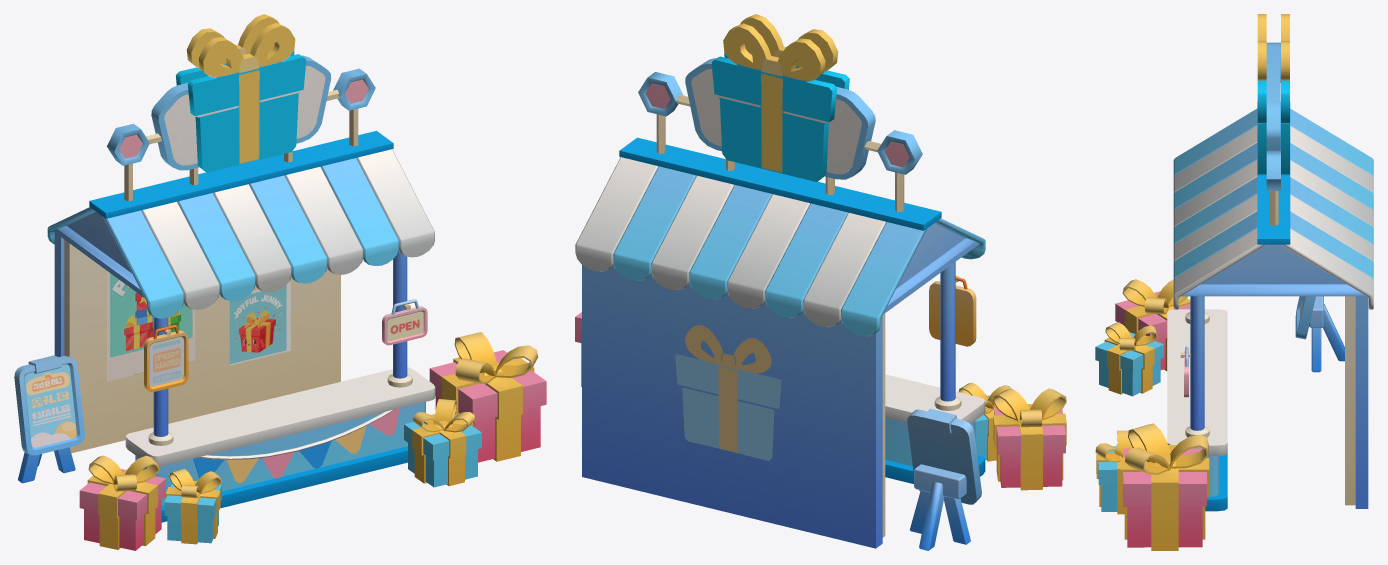
File: BundleStore.fbx
The picture shows the model from 3 angles, left to right: view 1: azimuth 30°, elevation 25°; view 2: azimuth 150°, elevation 25°; view 3: azimuth 270°, elevation 25°; orthographic projection. The views are drawn at different scales.
Visible parts, largest first — view 1: BundleStore, BundleStore_Gift04, BundleStore_Lipai, BundleStore_Gift01, BundleStore_Gift03, BundleStore_Gift02; view 2: BundleStore, BundleStore_Icon, BundleStore_Lipai, BundleStore_Gift01, BundleStore_Gift02; view 3: BundleStore, BundleStore_Gift04, BundleStore_Gift02, BundleStore_Gift01, BundleStore_Lipai, BundleStore_Gift03.
Boxes of the visible parts, x1,y1,x2,y2 form: BundleStore: (47,14,435,522); BundleStore_Gift04: (429,332,546,462); BundleStore_Lipai: (14,355,84,483); BundleStore_Gift01: (79,455,165,550); BundleStore_Gift03: (404,399,481,487); BundleStore_Gift02: (164,468,221,544); BundleStore: (575,14,985,548); BundleStore_Icon: (675,325,781,460); BundleStore_Lipai: (907,408,981,550); BundleStore_Gift01: (993,388,1066,490); BundleStore_Gift02: (958,382,1011,461); BundleStore: (1167,14,1373,511); BundleStore_Gift04: (1120,423,1209,550); BundleStore_Gift02: (1095,322,1163,396); BundleStore_Gift01: (1115,279,1190,371); BundleStore_Lipai: (1295,296,1344,372); BundleStore_Gift03: (1095,430,1132,514).
Size of the model in its own units: 520 by 471 by 287.
